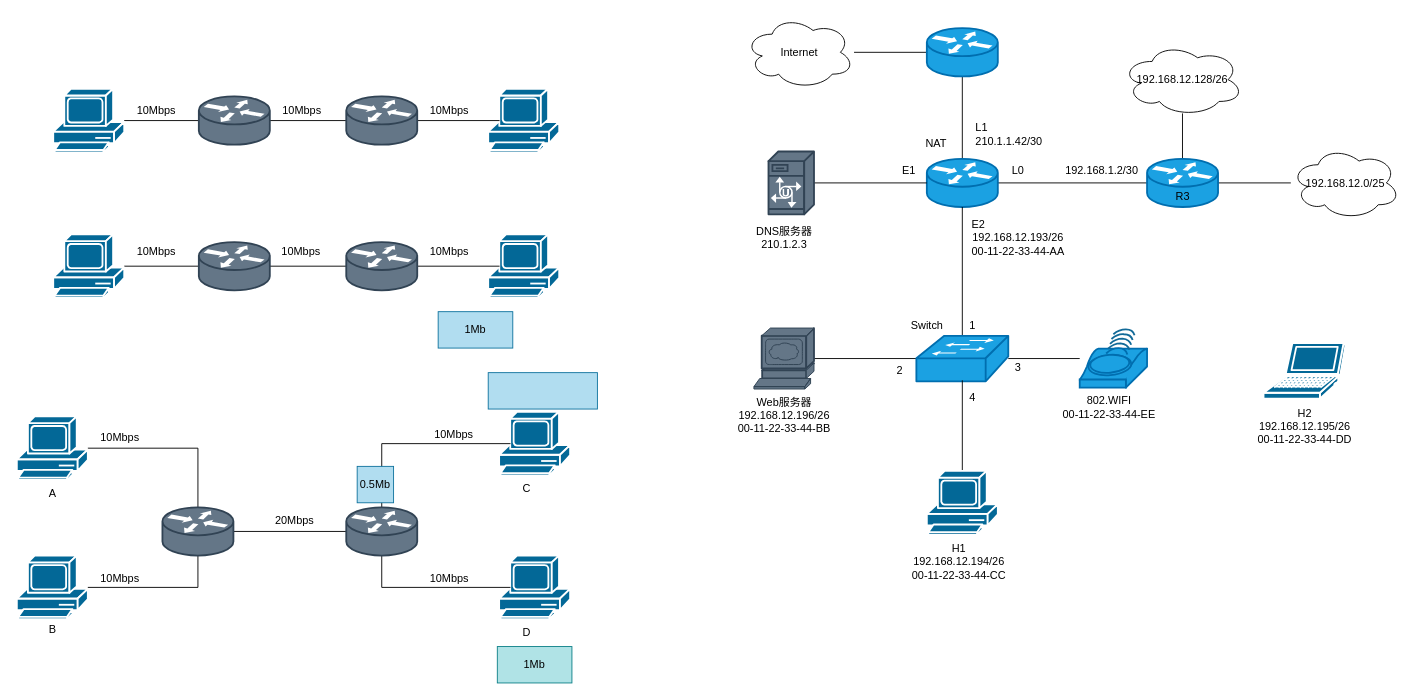
This 1416x699 diagram has some shape labels left out. The shapes that lost their labels are listed below. From the top down, each one's centre as x and y in pixels, then its label:
the point at 961,52: R1
the point at 961,182: R2
the point at 542,390: 1.5Mb
